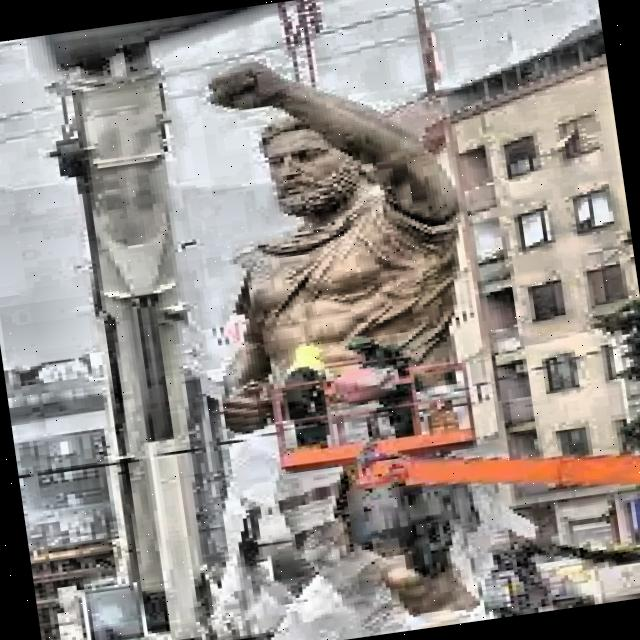Philip II of Macedonia: (174, 41, 496, 516)
